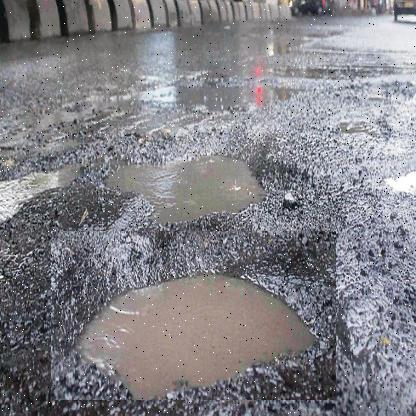pothole_water: (51, 231, 337, 401)
